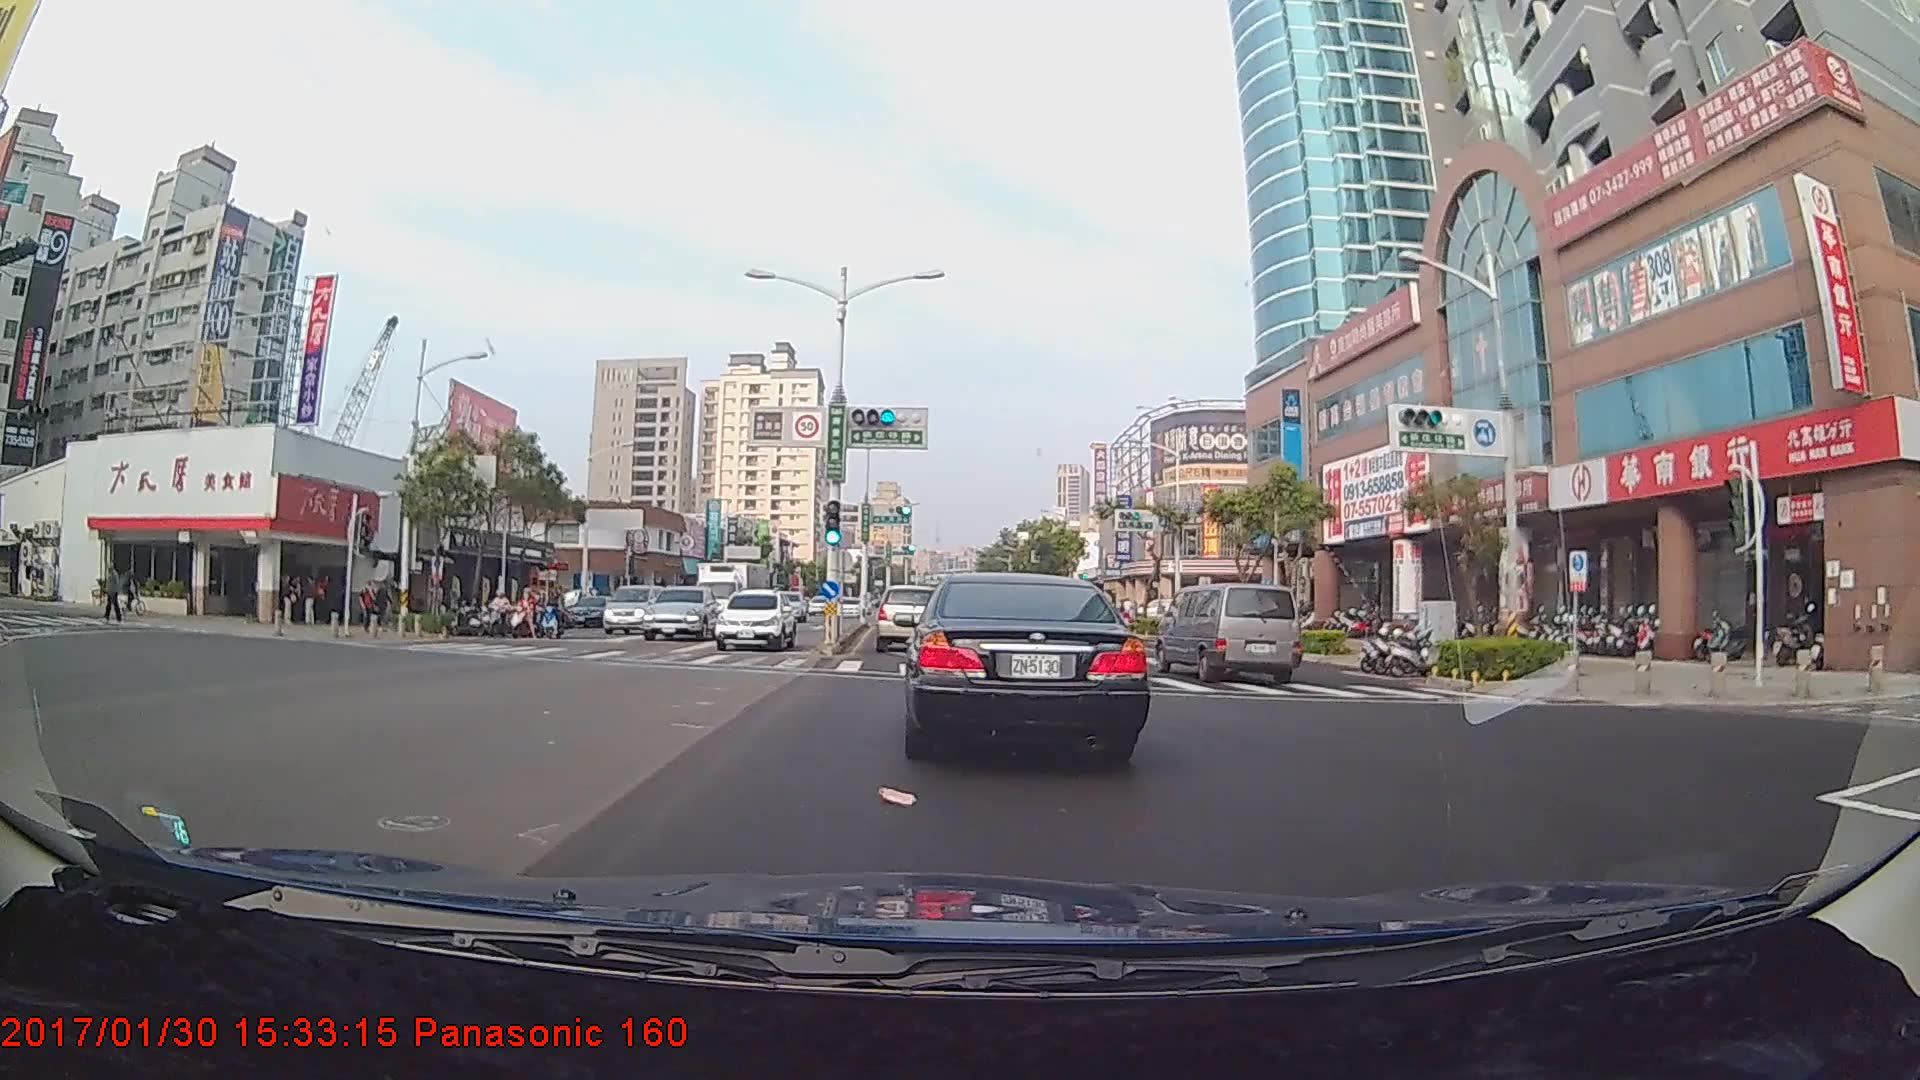pedestrian: (103, 561, 124, 624), (274, 573, 295, 631), (358, 581, 378, 636), (299, 577, 319, 630)
rider: (532, 584, 571, 644), (479, 590, 513, 642), (504, 589, 536, 641)
vehicle: (904, 567, 1143, 760), (1160, 580, 1301, 688), (696, 559, 776, 637), (713, 587, 798, 651), (874, 583, 945, 654), (641, 586, 714, 642), (598, 583, 663, 638)
